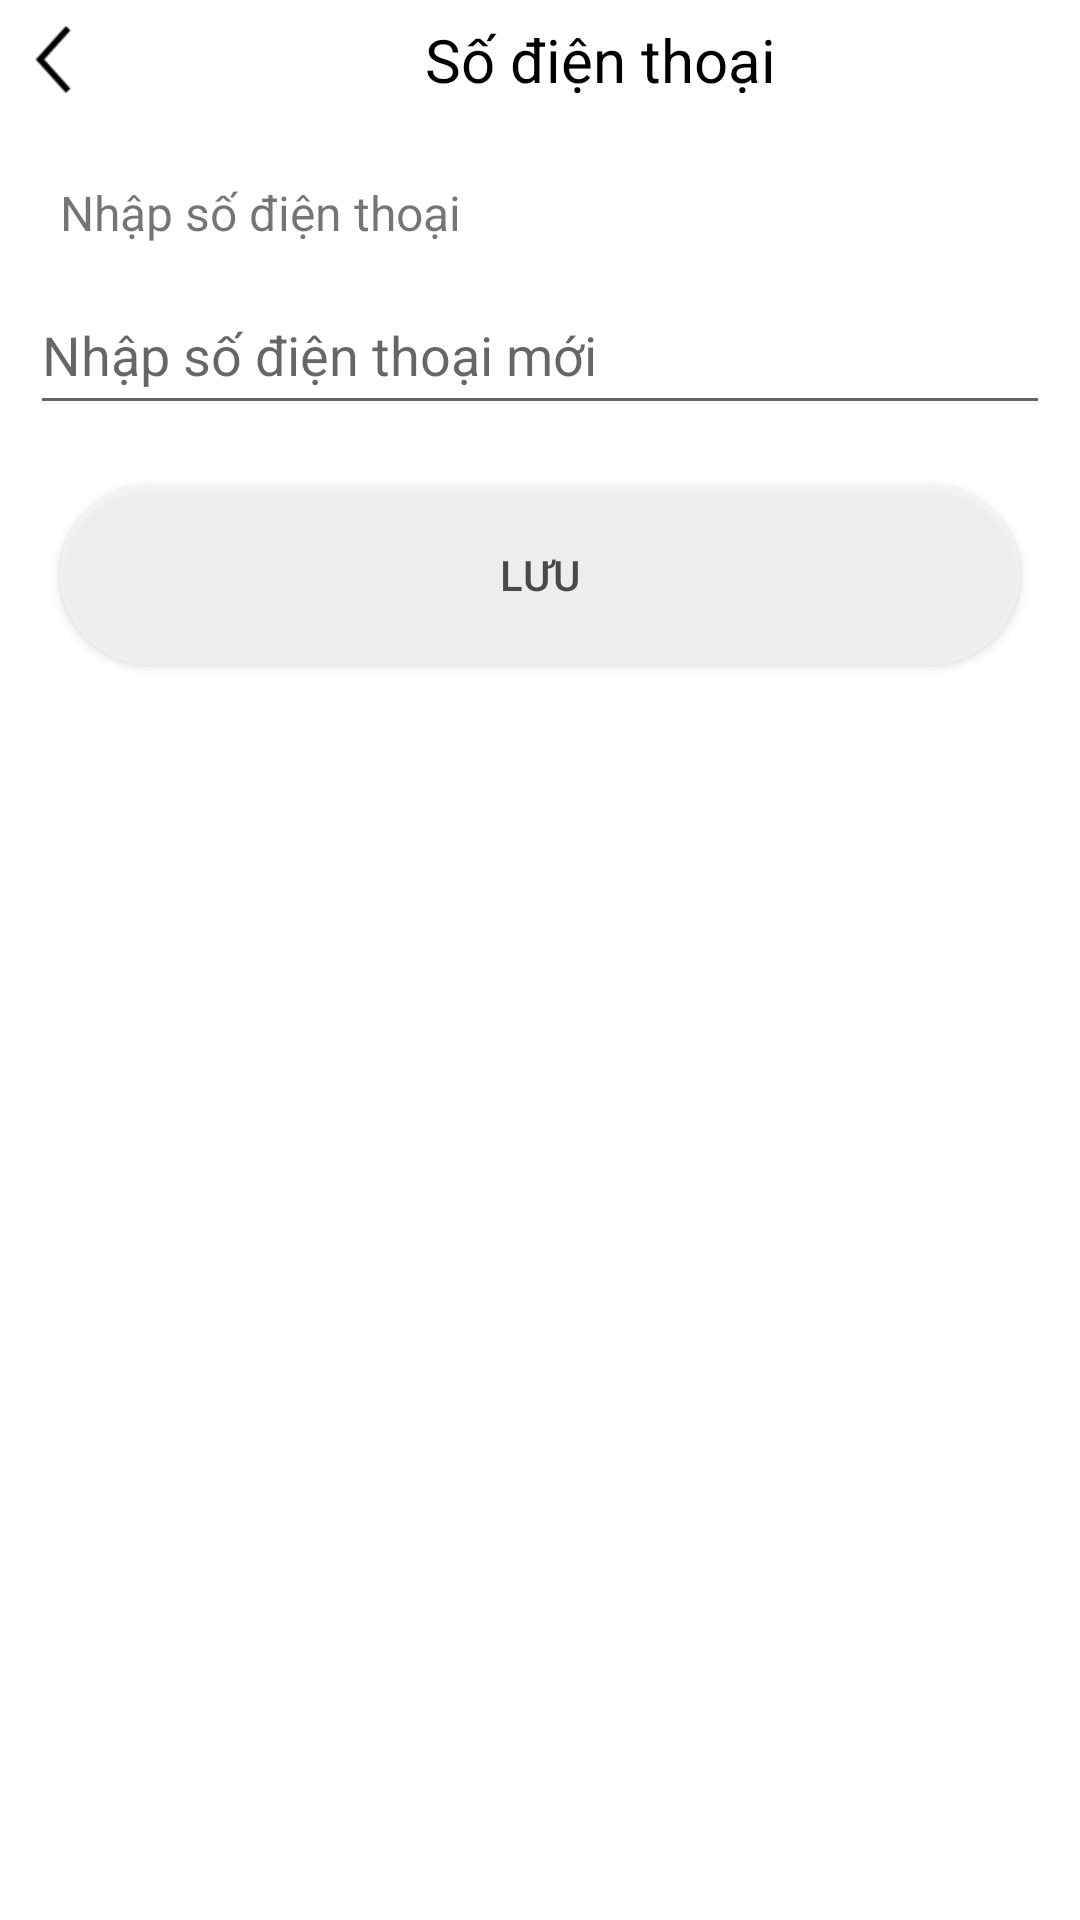

Where icons sit on this 1080 x 1920 app screen, as {"x1": x1, "y1": y1, "x2": x2, "y2": y2}:
back: {"x1": 35, "y1": 26, "x2": 71, "y2": 93}
